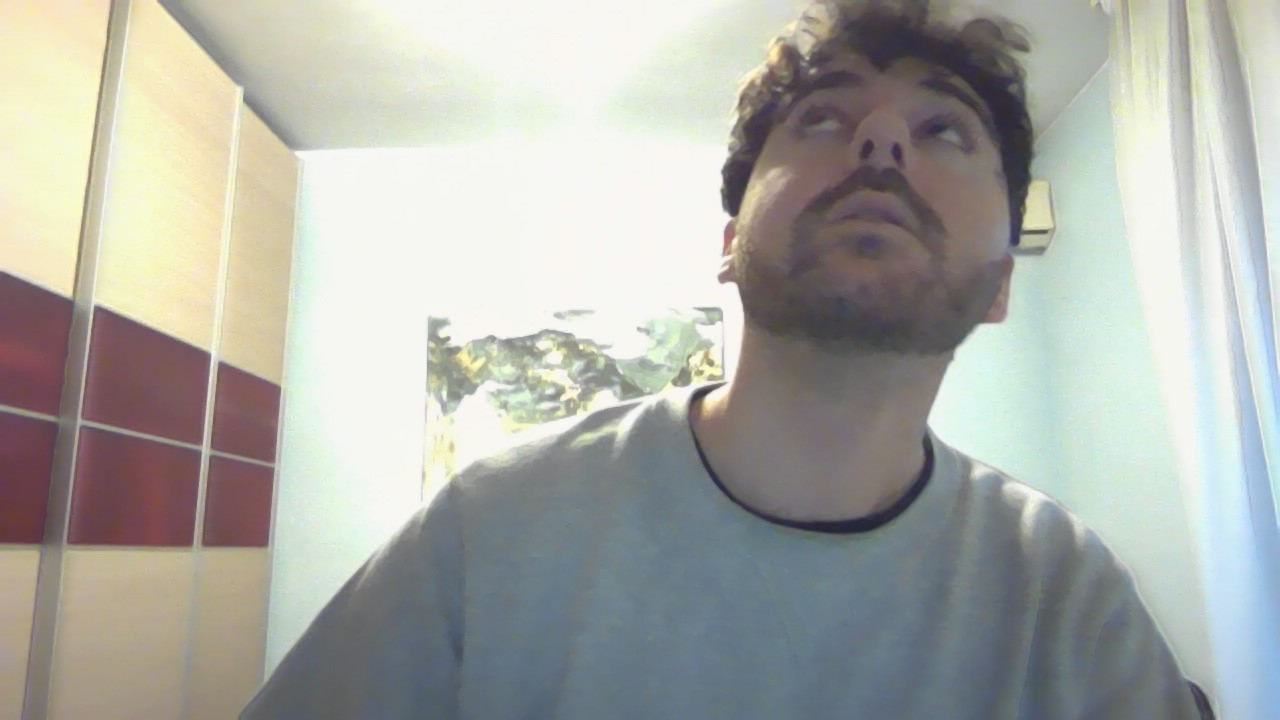NoGlasses: (739, 79, 1044, 175)
